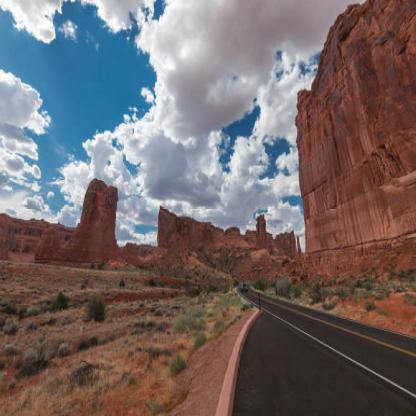Sedimentary_Sandstone: (345, 0, 415, 154), (358, 173, 415, 242), (305, 84, 333, 218), (1, 209, 66, 261), (156, 208, 224, 255), (75, 184, 117, 256), (231, 224, 294, 266)
